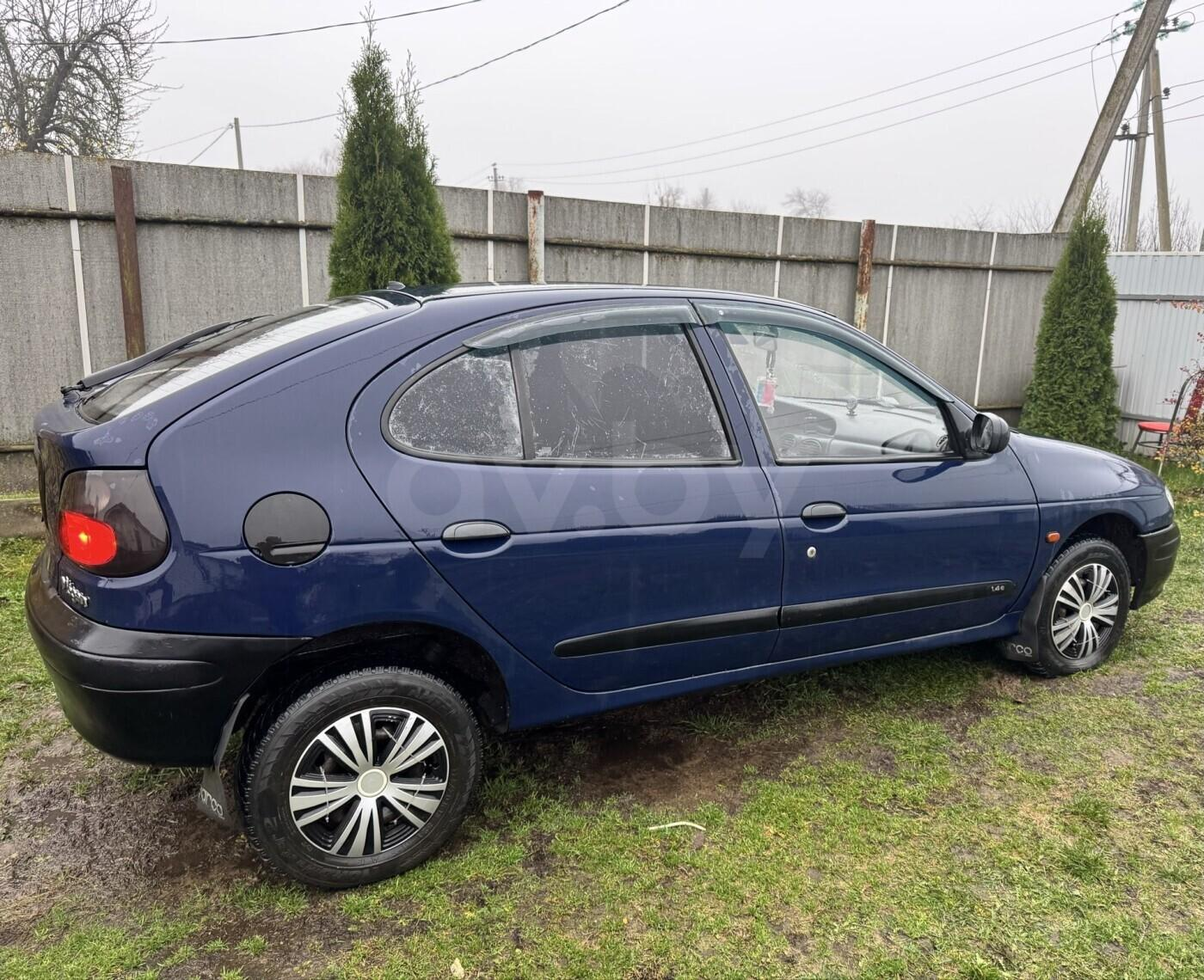Megane_1995-1999: (18, 269, 1183, 887)
